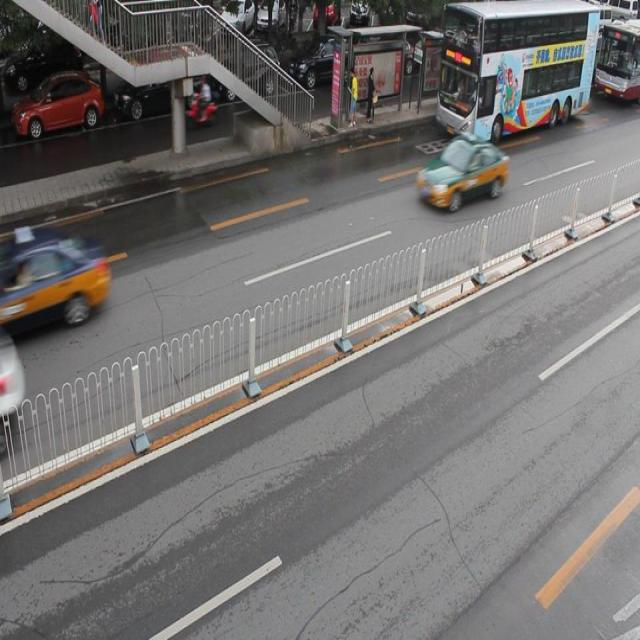car: (1, 229, 112, 327), (416, 130, 508, 208), (14, 73, 105, 142), (117, 57, 205, 120), (288, 36, 359, 90), (220, 44, 279, 102), (1, 330, 28, 434)
van: (436, 1, 597, 141), (594, 24, 640, 101)
